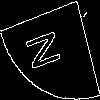N: (25, 25, 69, 74)
